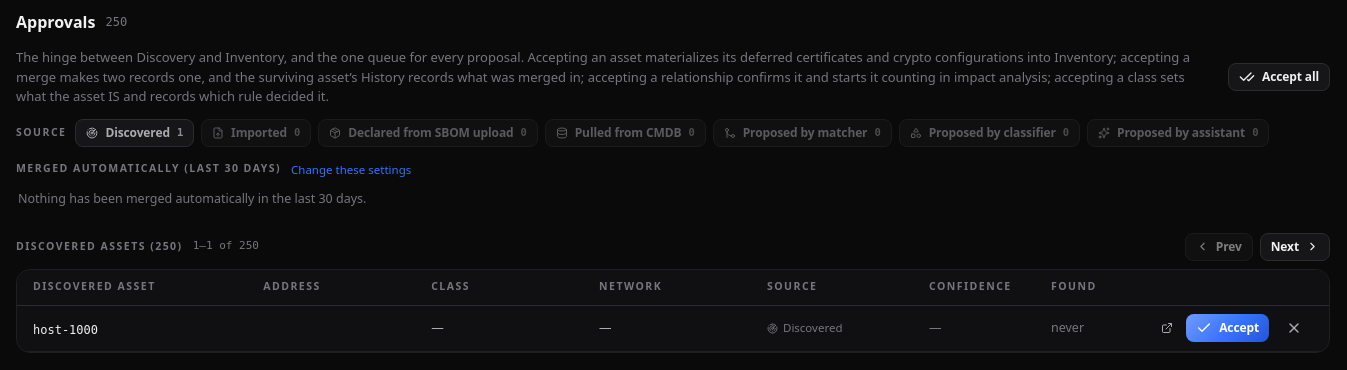
Test: Next on the Approvals asset pager requests page 2 and shows the range
Expected: the text with test id "asset-page-range" reads "1–1 of 250", [193,238,259,255]
Click the button with test id "asset-page-next": (1295,246) [1260,232,1330,260]
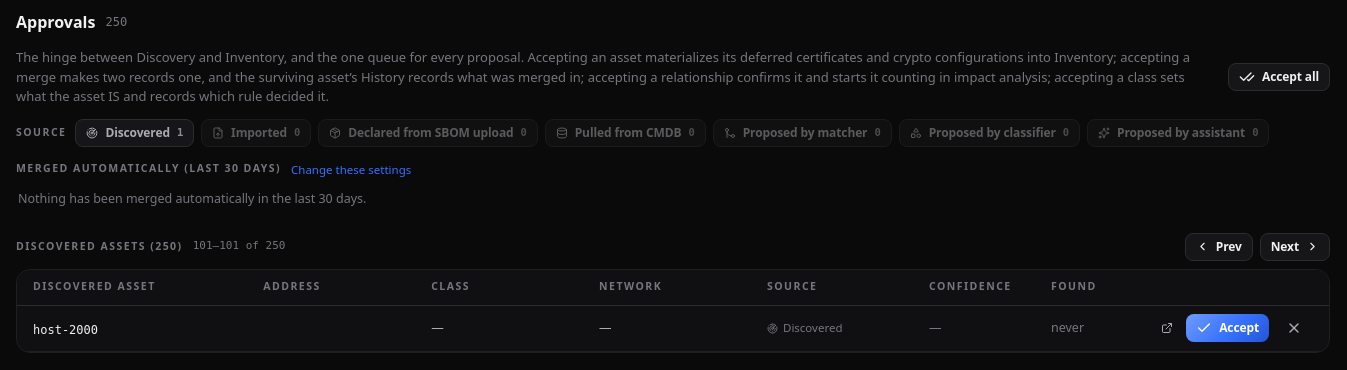
Now the text "host-2000" is shown, box [33,323,98,337]
Now the text with test id "asset-page-range" reads "101–101 of 250", box [193,238,285,255]
